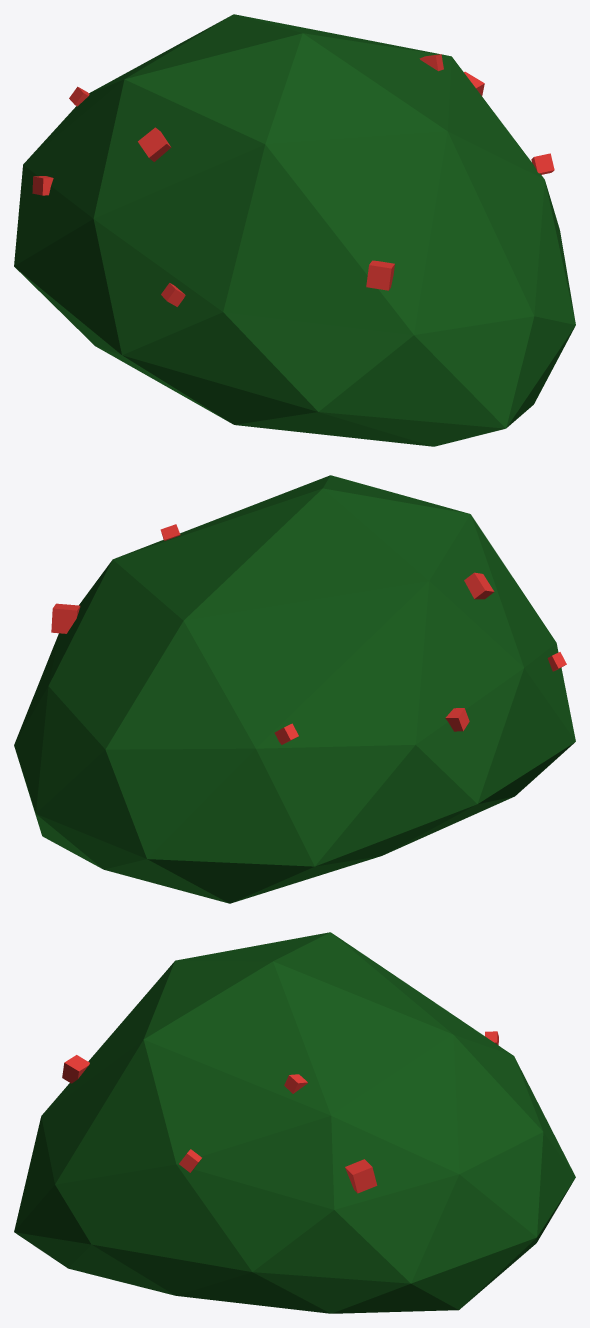
The model's file is Bush02.glb.
3 views of the same model, one above another, from view 1: azimuth 30°, elevation 25°; view 2: azimuth 150°, elevation 25°; view 3: azimuth 270°, elevation 25° (orthographic). The views are drawn at different scales.
Parts seen in each view (by area): view 1: Bush_02; view 2: Bush_02; view 3: Bush_02.
Part boxes in pixels (box(x1,y1,x2,y2)): Bush_02: box(14, 14, 575, 446); Bush_02: box(14, 475, 575, 903); Bush_02: box(14, 932, 575, 1313).
Size of the model in its own units: 0.5398 by 0.356 by 0.6614.
